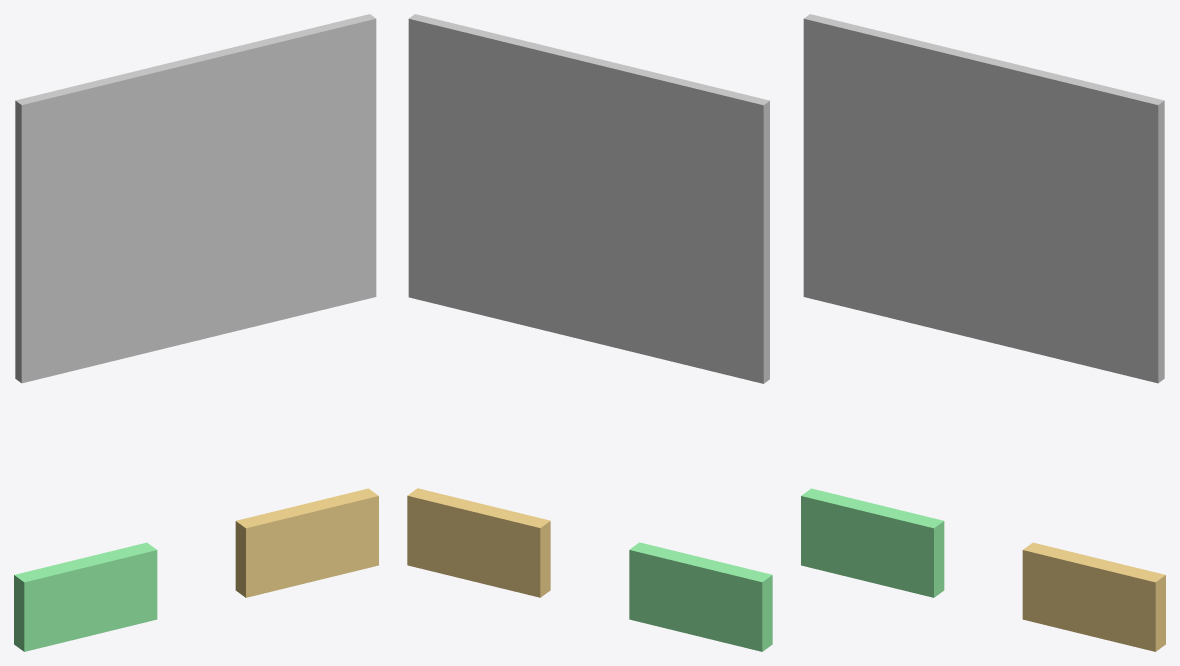
File: o2conc_steel_glass.glb
3 renders of one model, left to right at view 1: azimuth 30°, elevation 25°; view 2: azimuth 150°, elevation 25°; view 3: azimuth 330°, elevation 25°, orthographic.
Visible parts, largest first — view 1: o2conc_steel_glass; view 2: o2conc_steel_glass; view 3: o2conc_steel_glass.
Boxes of the visible parts, box(x1,y1,x2,y2) form: o2conc_steel_glass: box(14, 14, 378, 651); o2conc_steel_glass: box(407, 14, 772, 651); o2conc_steel_glass: box(801, 14, 1165, 651).
Size of the model in its own units: 0.16 by 0.235 by 0.008.
